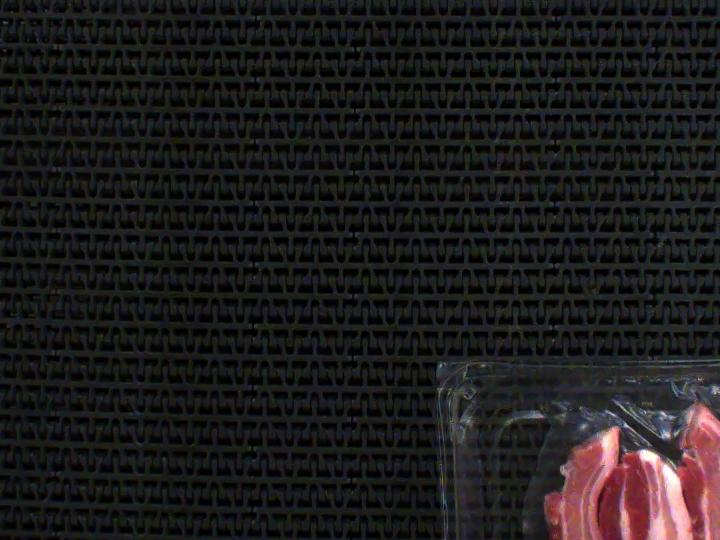unsealed: (497, 363, 720, 540)
